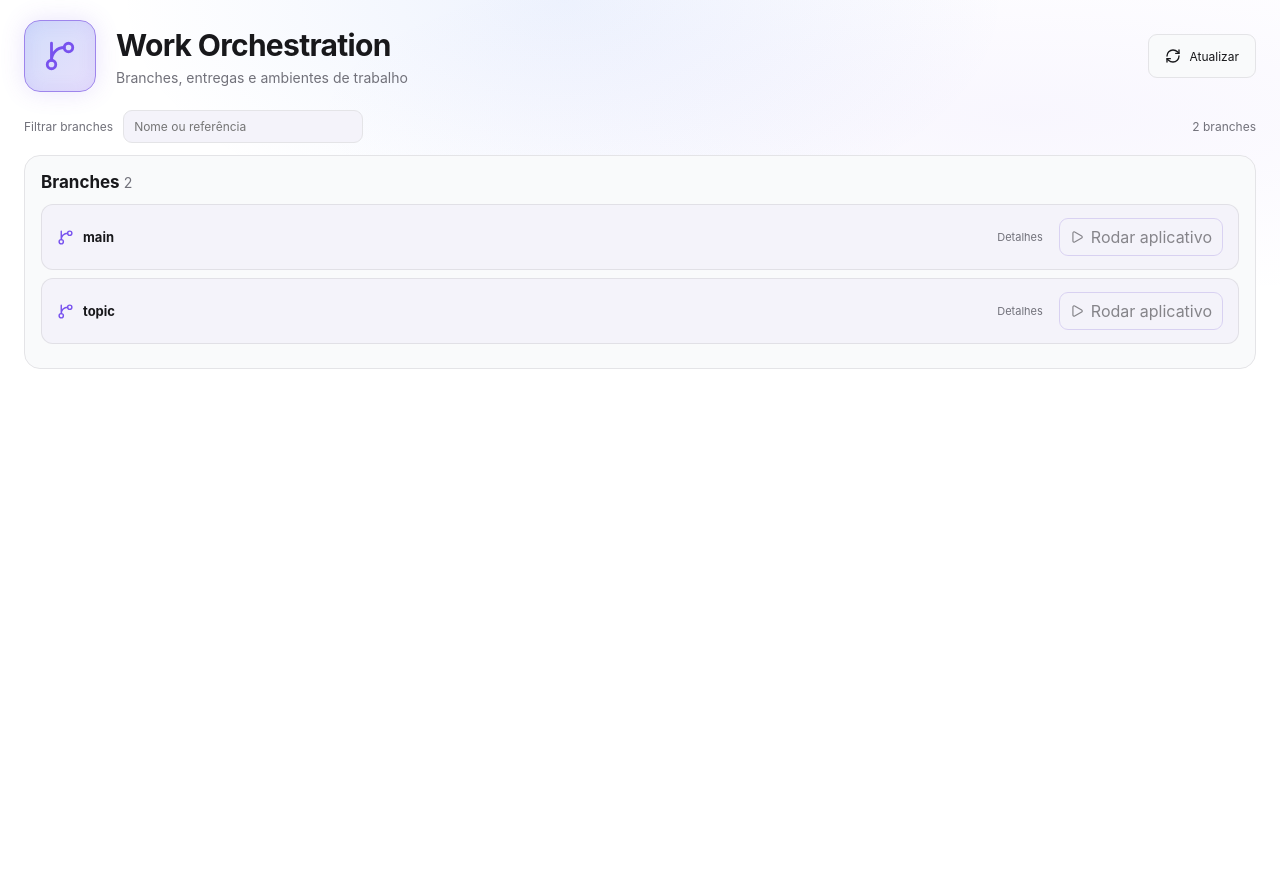
keeps empty PARTIAL coverage inconclusive with reason and observation
Step 1. Click the text "main" → (98, 237), box [83, 229, 114, 245]
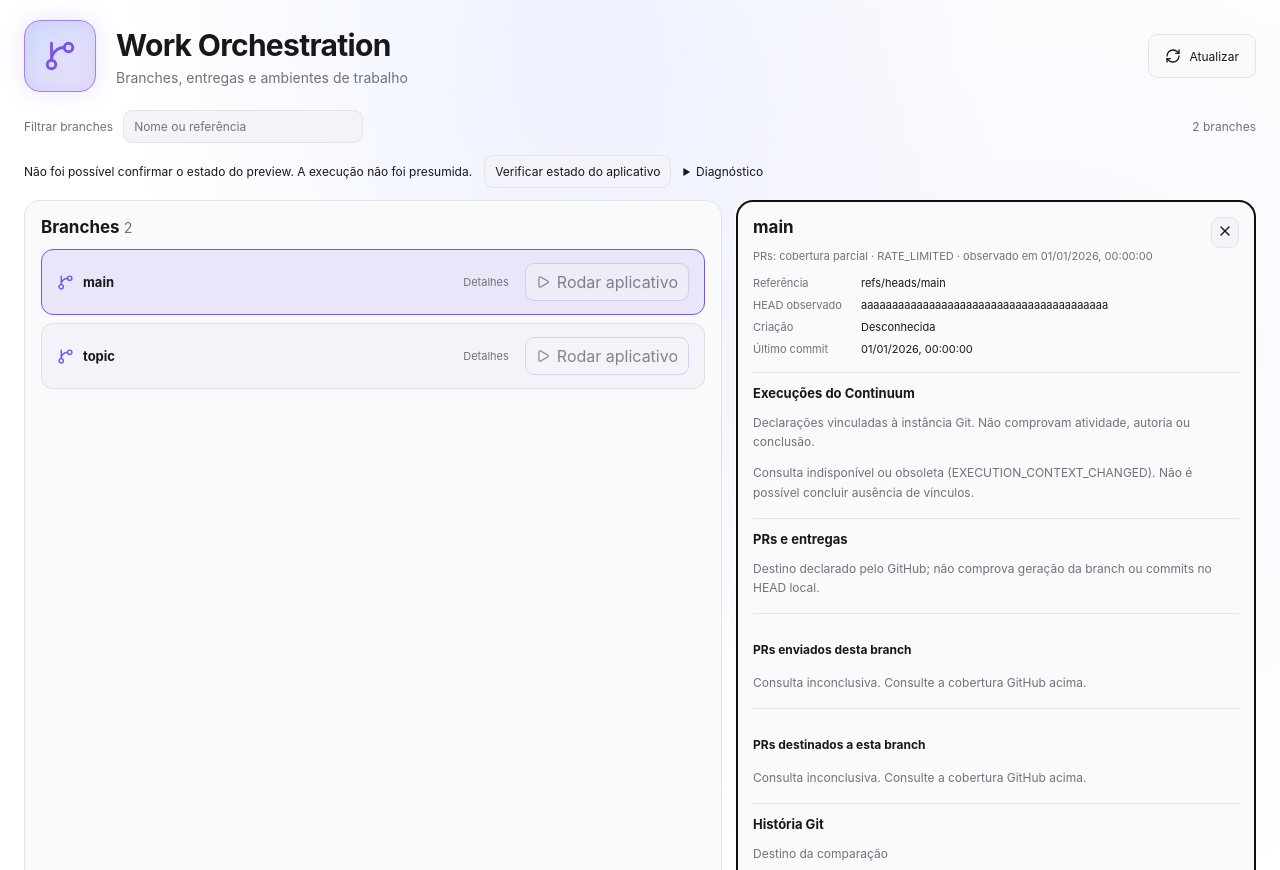
Result: the text "PRs: cobertura parcial · RATE_LIMITED · observado em 01/01/2026, 00:00:00" is shown at [753, 249, 1153, 263]
Result: the text "Consulta inconclusiva. Consulte a cobertura GitHub acima." is shown 2 times at [753, 675, 1086, 690]; [753, 770, 1086, 785]
